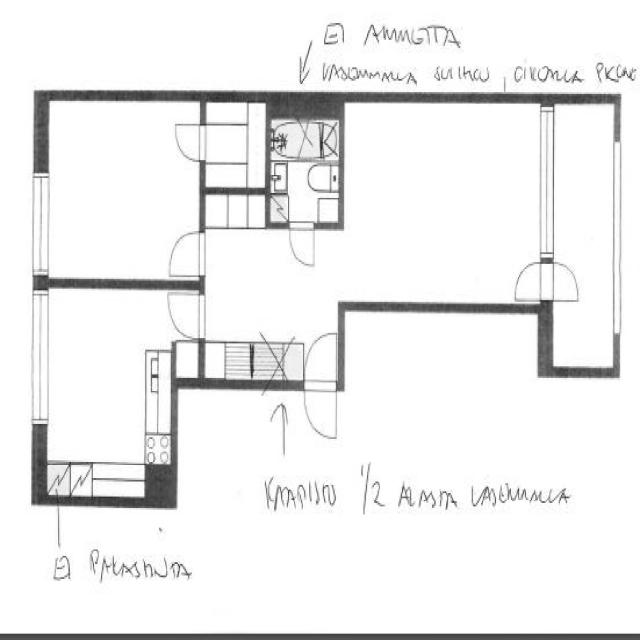door: (299, 321, 342, 446), (504, 257, 587, 303), (163, 284, 208, 342), (165, 225, 208, 280), (170, 117, 210, 165), (284, 217, 319, 271)
window: (21, 278, 58, 441), (530, 98, 565, 264), (25, 152, 59, 287)
zone: (345, 93, 551, 310), (40, 90, 206, 286), (36, 282, 177, 502), (205, 227, 340, 384), (266, 104, 343, 226), (201, 96, 269, 192)
